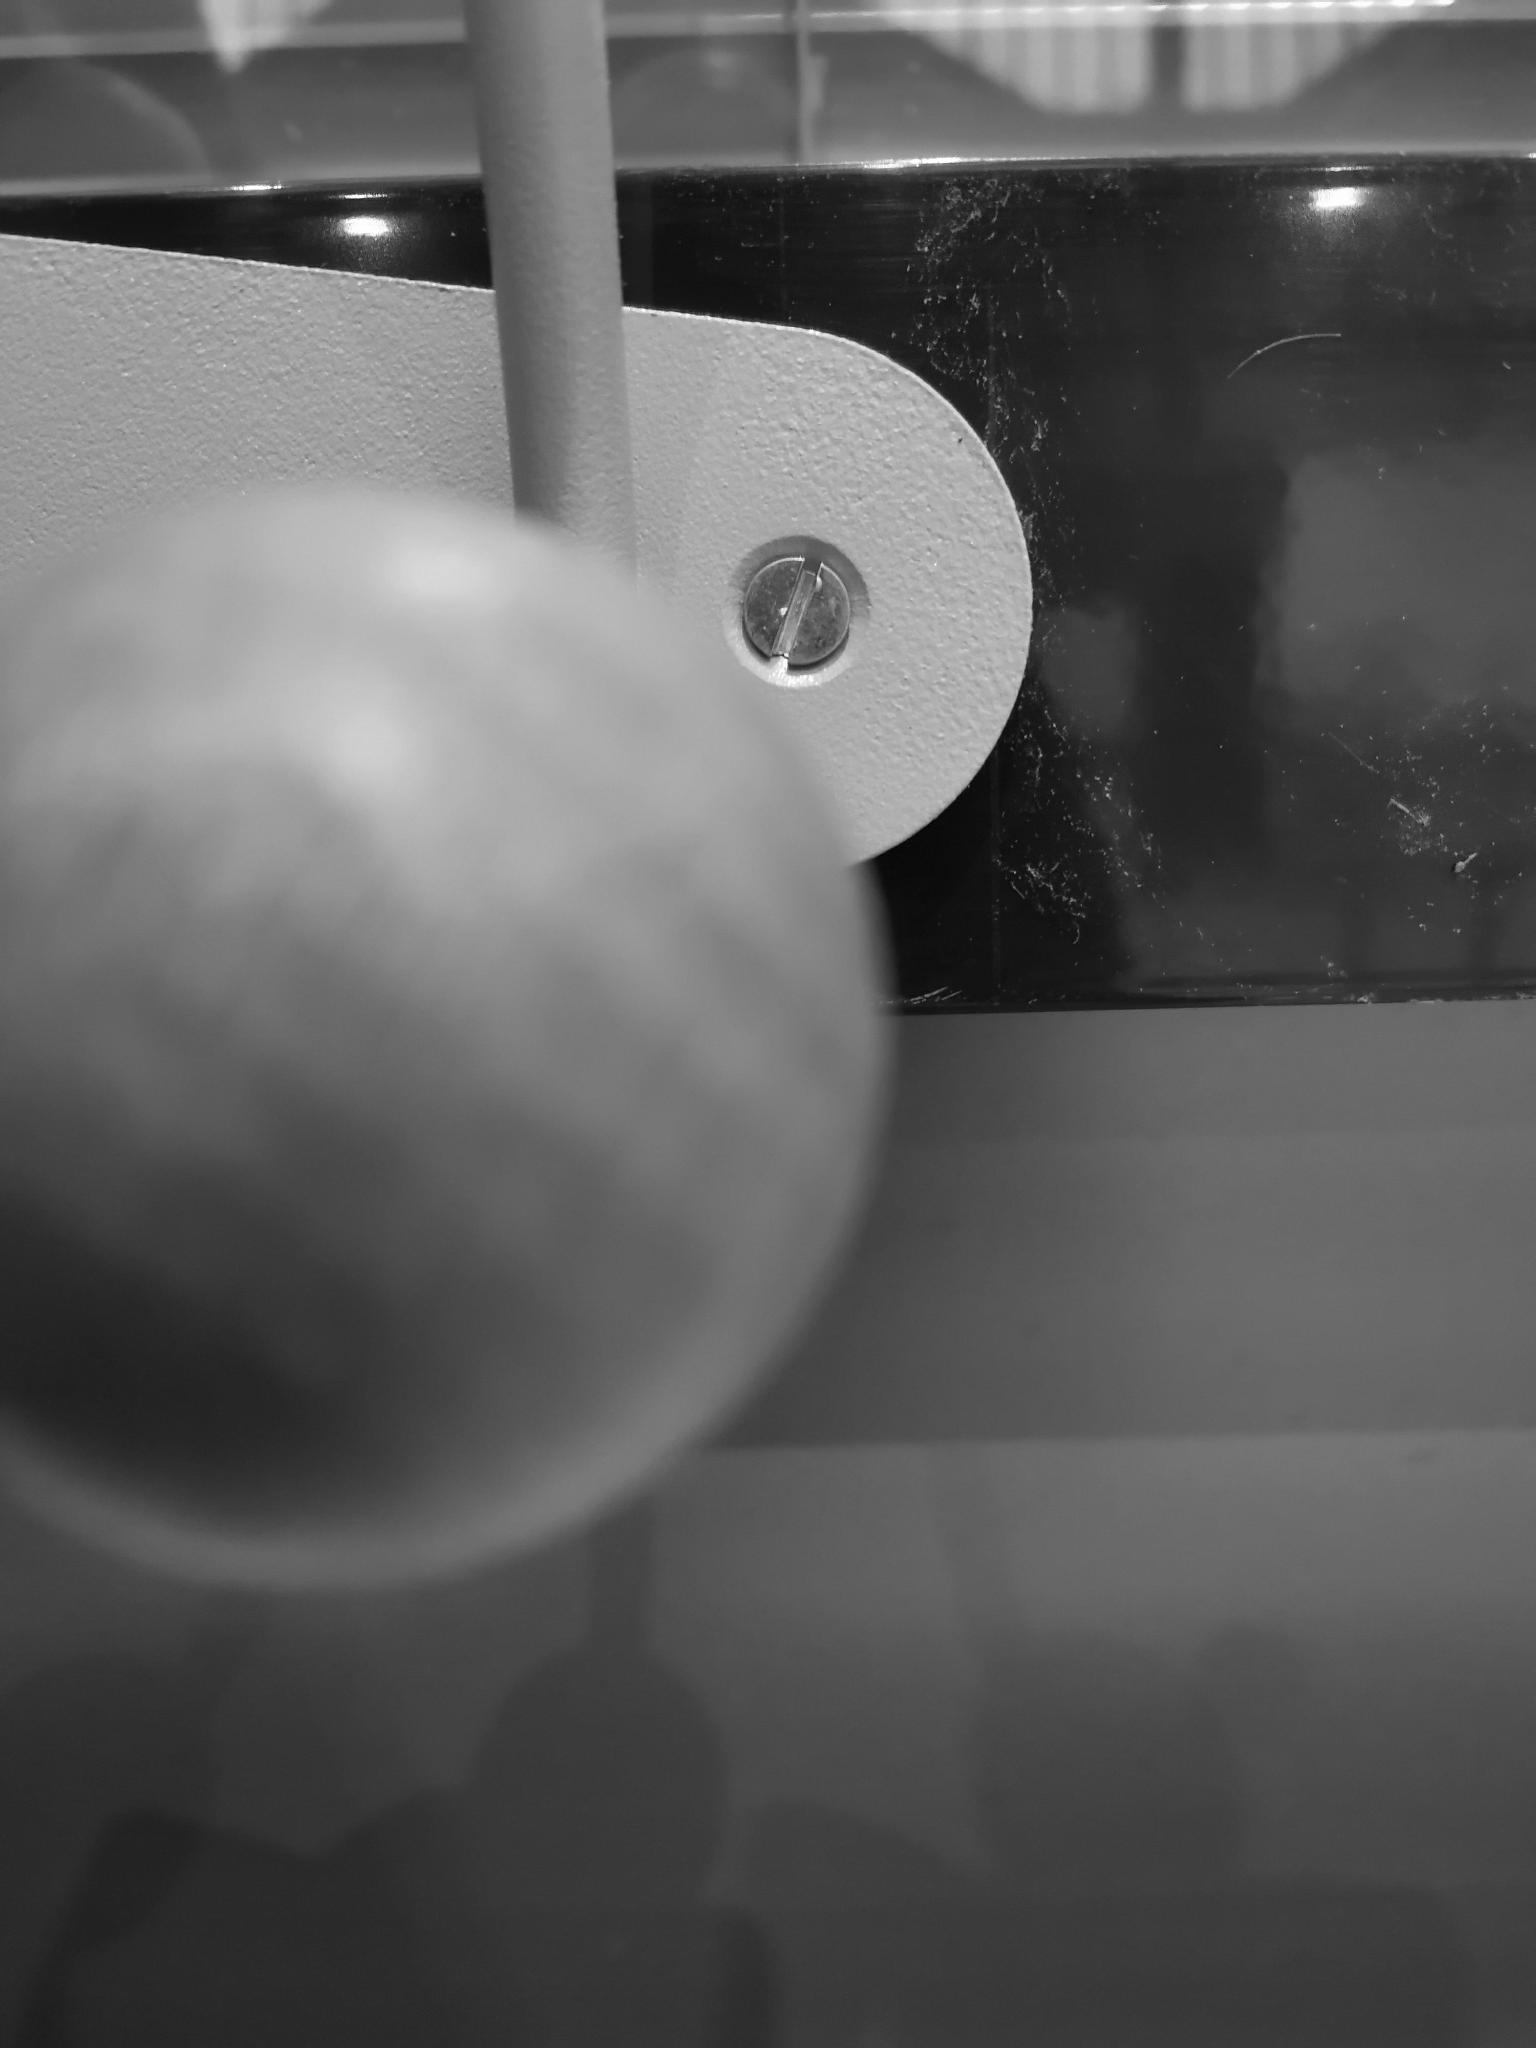screw: (734, 548, 852, 669)
